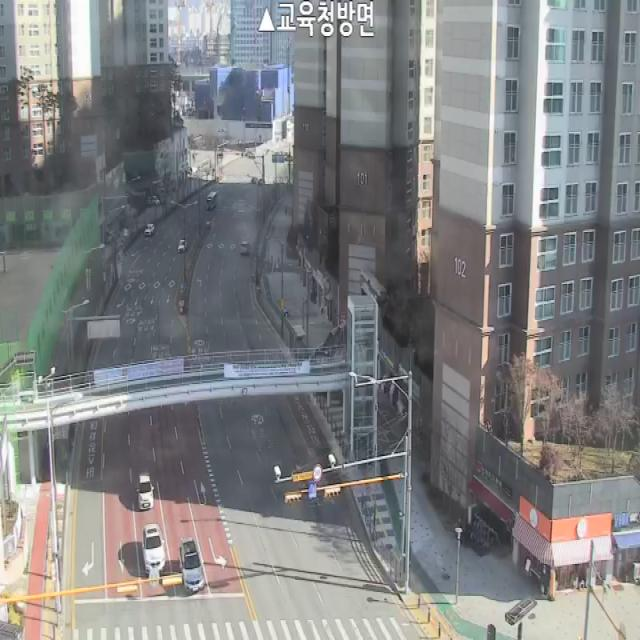Bus: (207, 191, 218, 211)
Car: (180, 538, 204, 592), (143, 524, 166, 576), (137, 474, 154, 510), (144, 223, 155, 237), (178, 239, 187, 253), (241, 241, 250, 255)
